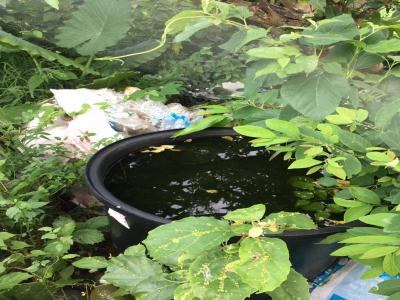bucket: (84, 126, 345, 280)
